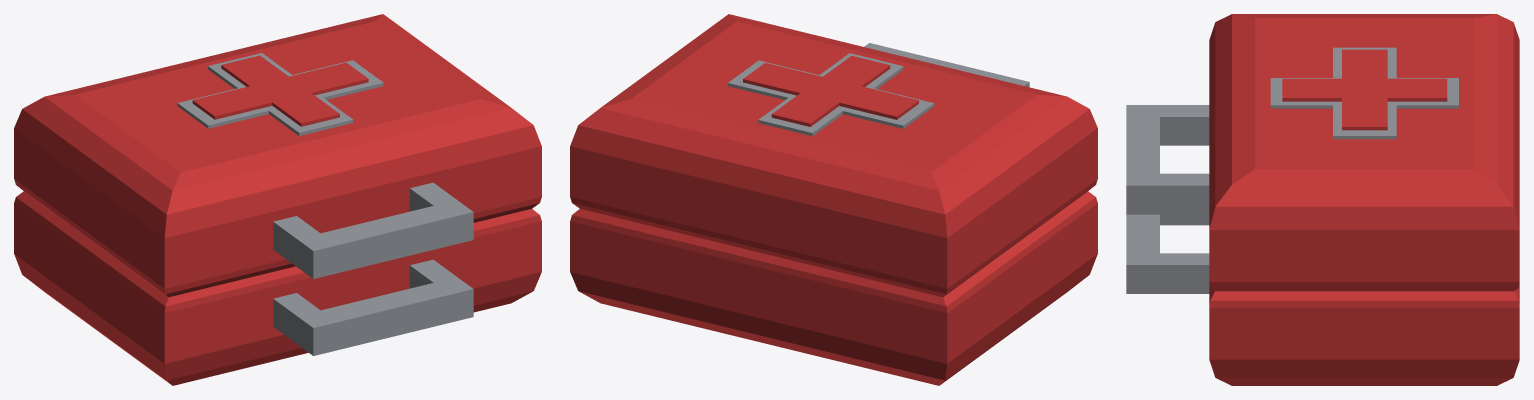
Rendered from aptechka_max.fbx.
3 renders of one model, left to right at view 1: azimuth 30°, elevation 25°; view 2: azimuth 150°, elevation 25°; view 3: azimuth 270°, elevation 25°, orthographic. The views are drawn at different scales.
Visible parts, largest first — view 1: aptechka_max; view 2: aptechka_max; view 3: aptechka_max.
Part boxes in pixels (x1,y1,x2,y2): aptechka_max: (14,14,541,385); aptechka_max: (570,14,1097,385); aptechka_max: (1126,14,1519,385).
Size of the model in its own units: 0.4889 by 0.2635 by 0.4283.
